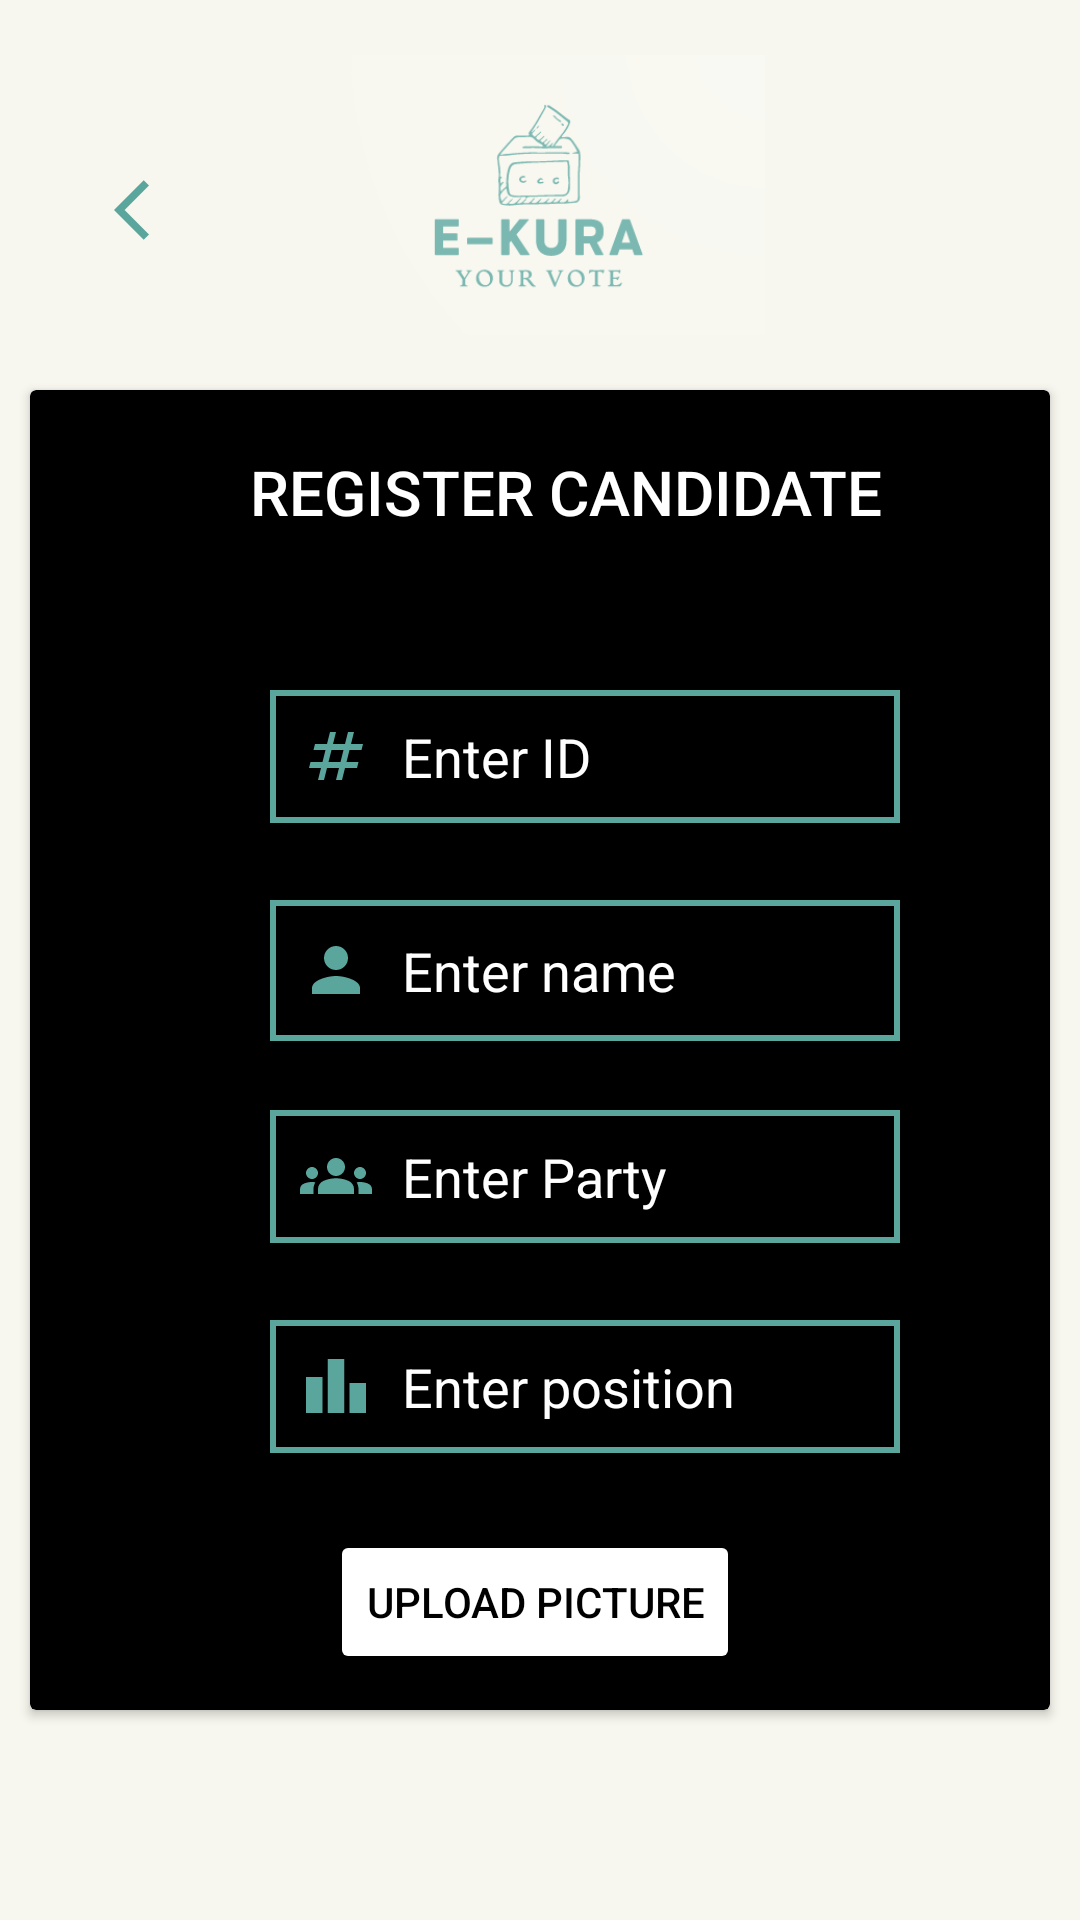

Point at icon controls on the screen. Image size 1080px x 1920px, points as point (x, y).
back: point (131, 210)
